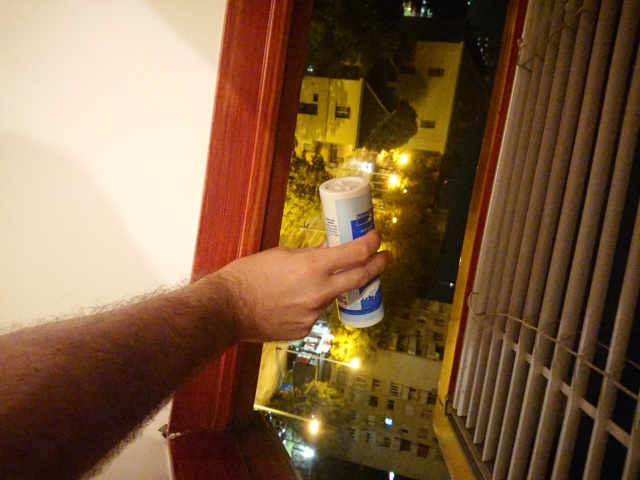Solana Pag Fine Sea Salt 250g: (315, 174, 388, 331)
